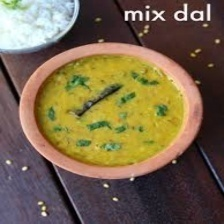dal: (34, 53, 183, 167)
